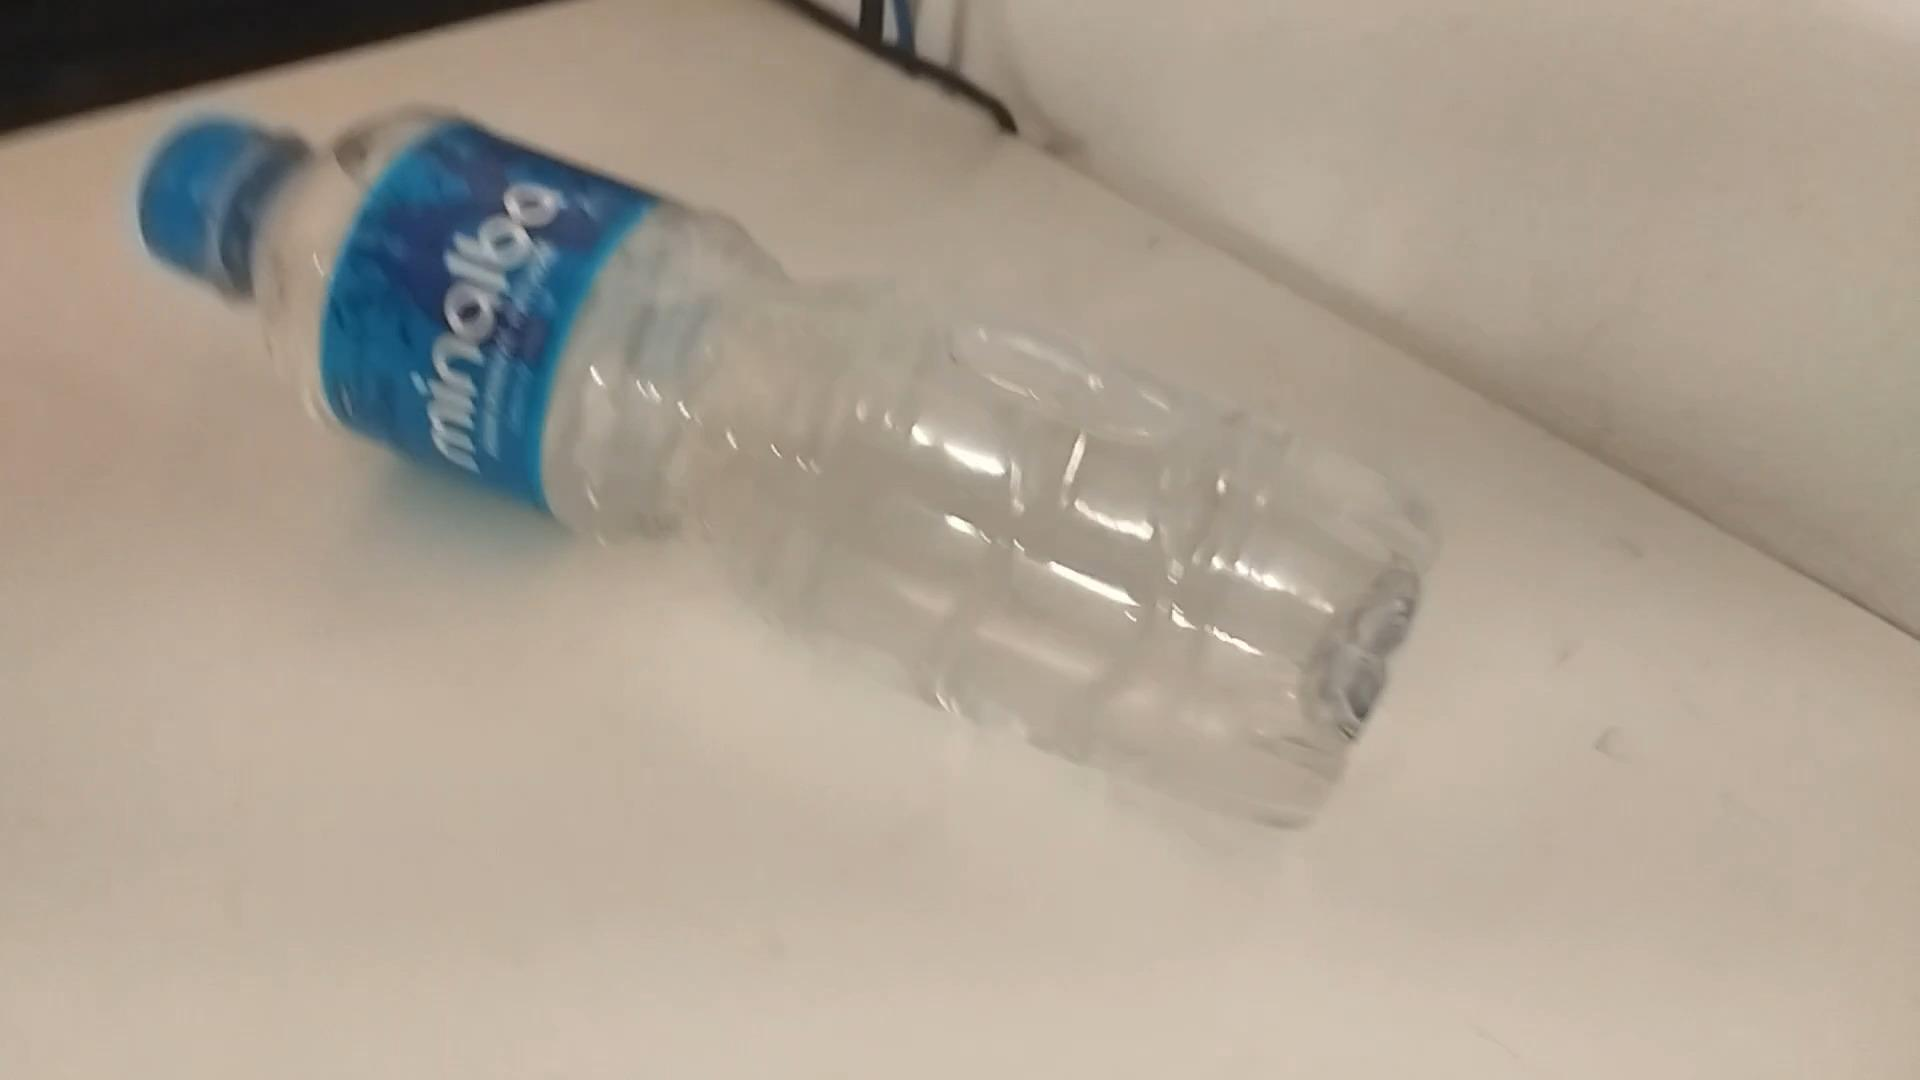agua: (142, 94, 1400, 835)
